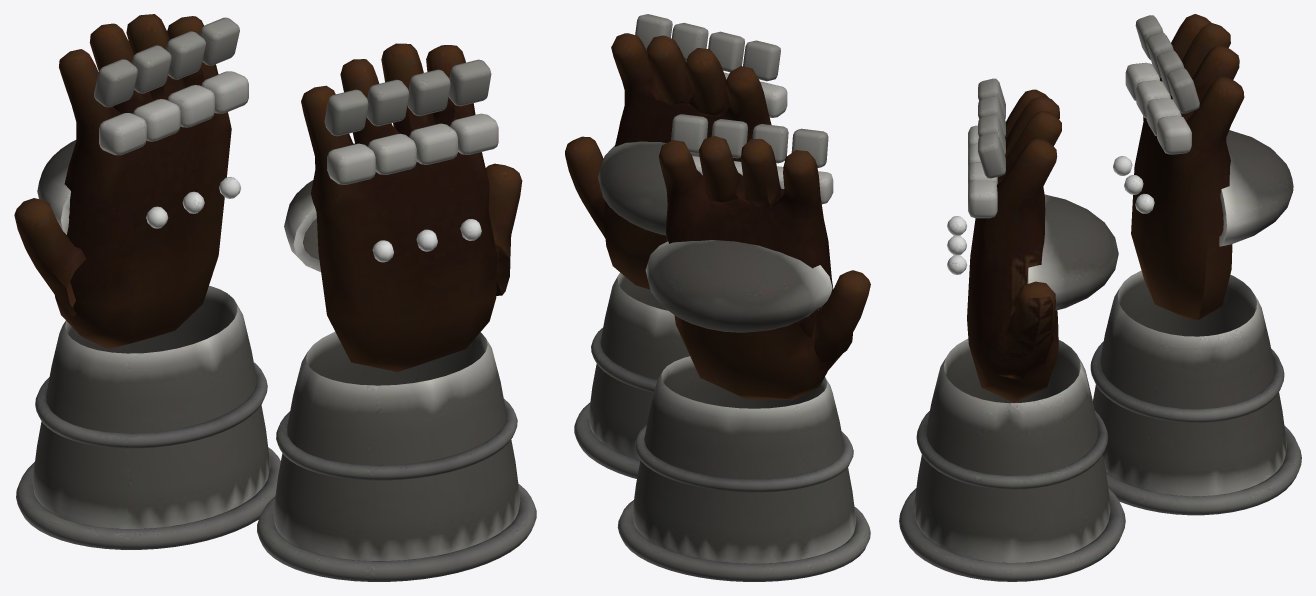
The model's file is iron_gauntlets.glb.
The picture shows the model from 3 angles, left to right: view 1: azimuth 30°, elevation 25°; view 2: azimuth 150°, elevation 25°; view 3: azimuth 270°, elevation 25°; orthographic projection. The views are drawn at different scales.
Parts seen in each view (by area): view 1: iron_gauntlets, iron_gauntlets_mirror; view 2: iron_gauntlets_mirror, iron_gauntlets; view 3: iron_gauntlets_mirror, iron_gauntlets.
Part boxes in pixels (x1=…): iron_gauntlets: x1=257, y1=43, x2=536, y2=581; iron_gauntlets_mirror: x1=14, y1=14, x2=280, y2=549; iron_gauntlets_mirror: x1=617, y1=114, x2=870, y2=581; iron_gauntlets: x1=565, y1=14, x2=787, y2=478; iron_gauntlets_mirror: x1=1090, y1=14, x2=1301, y2=515; iron_gauntlets: x1=899, y1=78, x2=1125, y2=581.
Bounding box in the file's own units: 0.24 × 0.2558 × 0.2186.
Materials: 1 (1 with a texture image).
